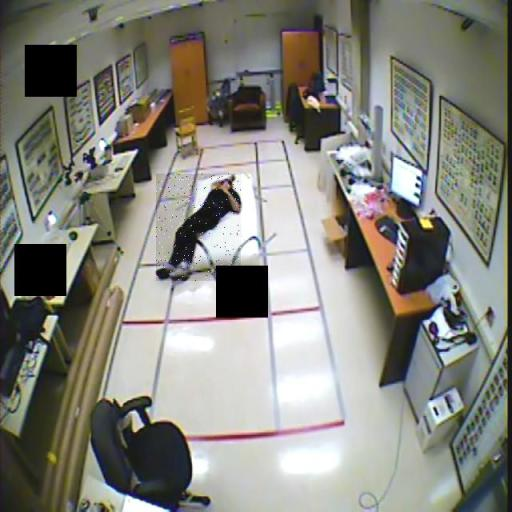Fall: (156, 174, 241, 281)
